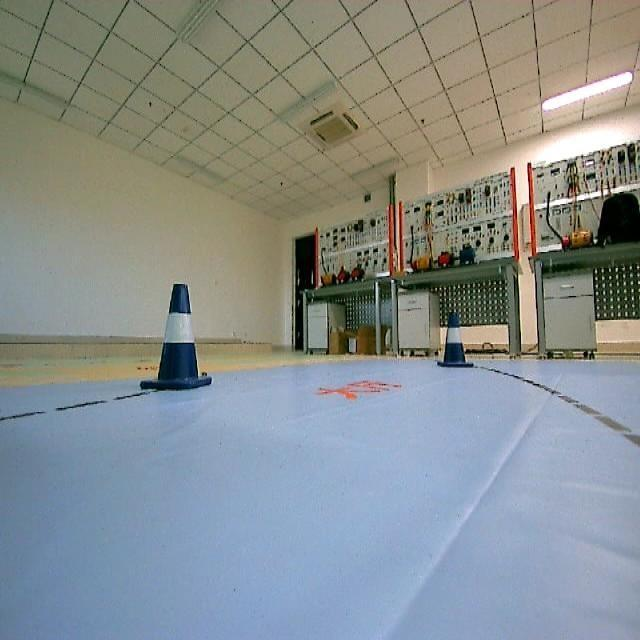obstacle: (136, 285, 218, 393), (426, 310, 482, 372)
